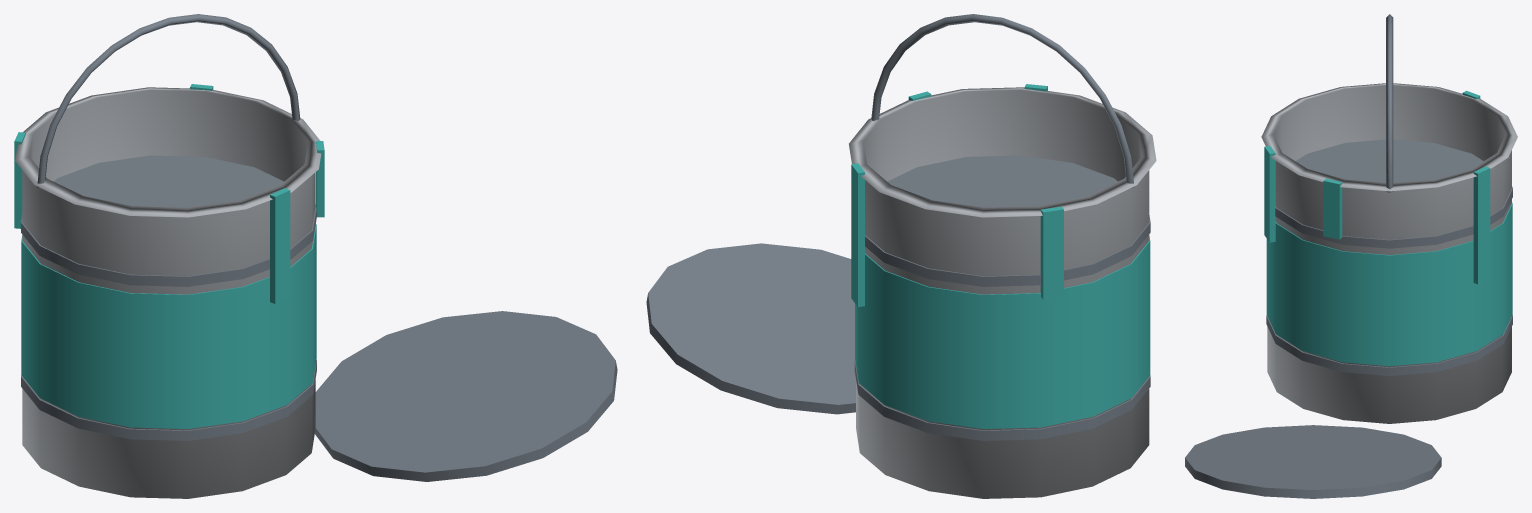
File: lata_aqua.glb
The picture shows the model from 3 angles, left to right: view 1: azimuth 30°, elevation 25°; view 2: azimuth 150°, elevation 25°; view 3: azimuth 270°, elevation 25°; orthographic projection. The views are drawn at different scales.
Parts seen in each view (by area): view 1: lata_aqua_malha; view 2: lata_aqua_malha; view 3: lata_aqua_malha.
Part boxes in pixels (left/top/right/bottom): lata_aqua_malha: left=14, top=14, right=617, bottom=498; lata_aqua_malha: left=646, top=14, right=1156, bottom=498; lata_aqua_malha: left=1185, top=14, right=1517, bottom=498.
Size of the model in its own units: 1.62 by 1.3 by 1.09.
